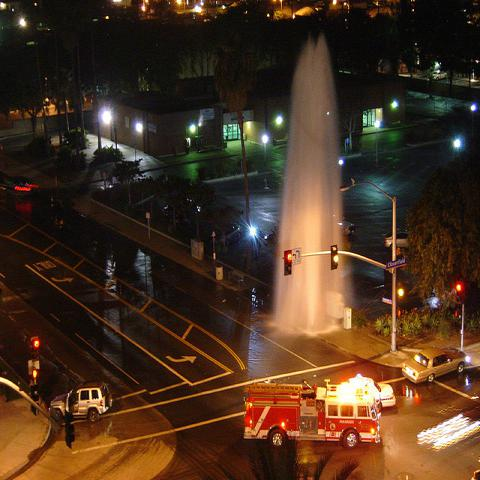car: (403, 345, 470, 385), (49, 382, 113, 423), (339, 378, 396, 412), (214, 222, 242, 247), (14, 183, 30, 198)
truck: (242, 376, 382, 450)
